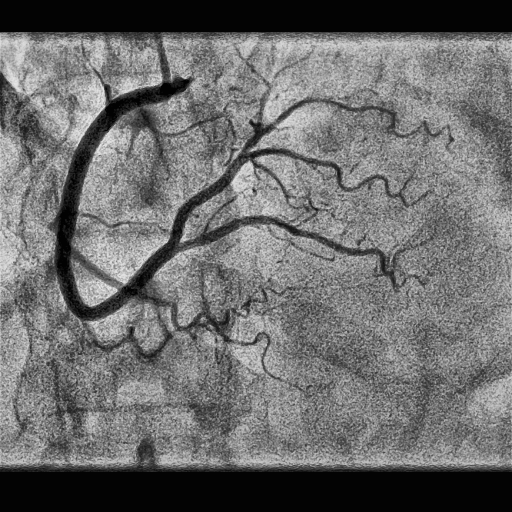pborca: (168, 97, 453, 242)
pda: (174, 215, 425, 288)
rca: (55, 85, 179, 321)
